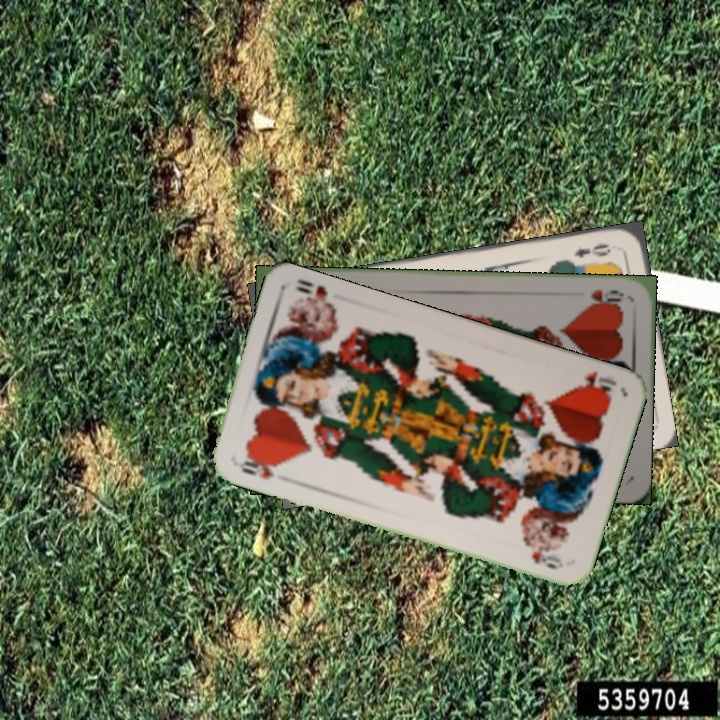EO: (570, 239, 614, 261)
HO: (574, 366, 619, 399), (232, 452, 280, 482), (581, 285, 627, 309)
